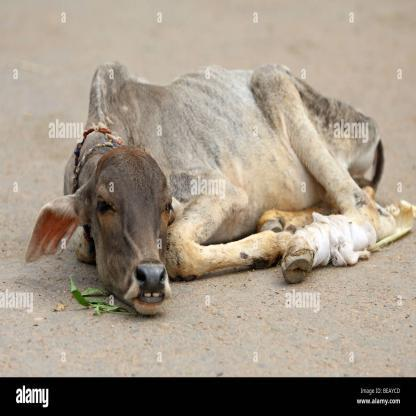cow: (56, 54, 395, 323)
